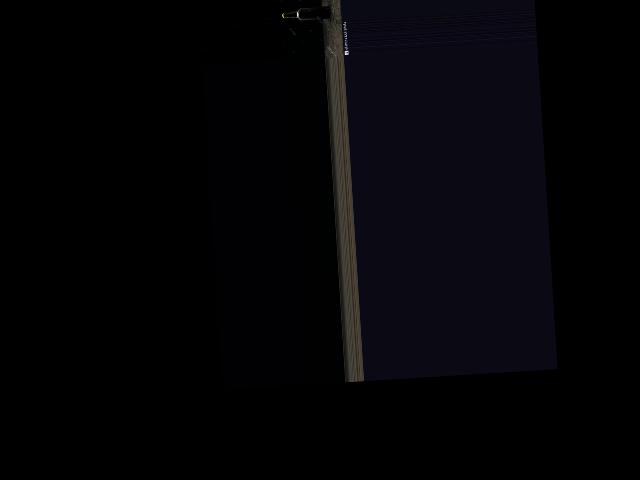beer: (282, 6, 330, 20)
